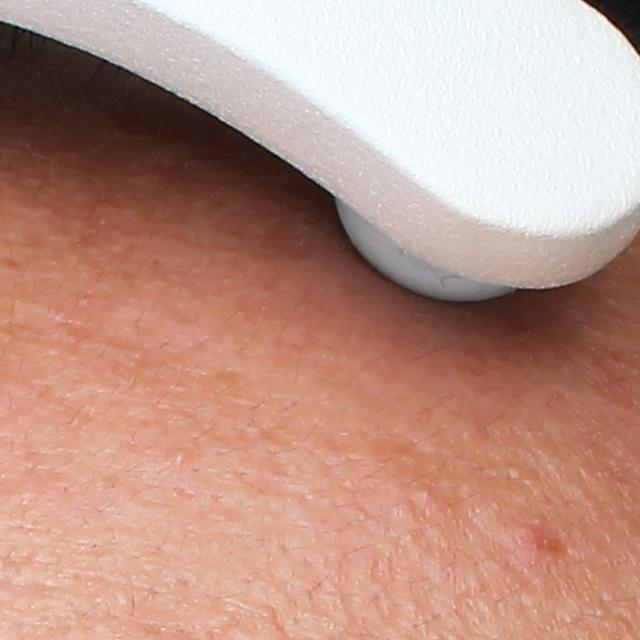comedo: (175, 448, 189, 465)
